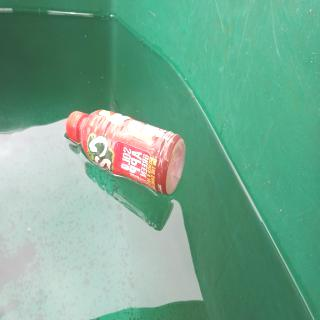bottle: (66, 108, 186, 198)
